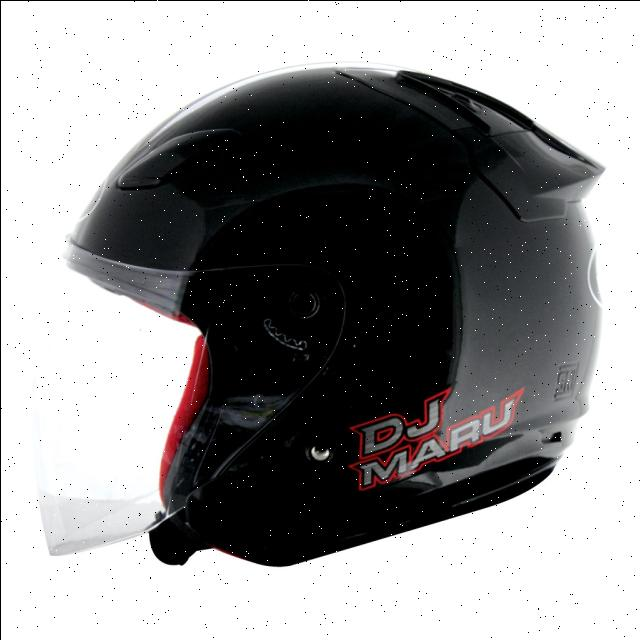Helmet: (26, 59, 606, 568)
